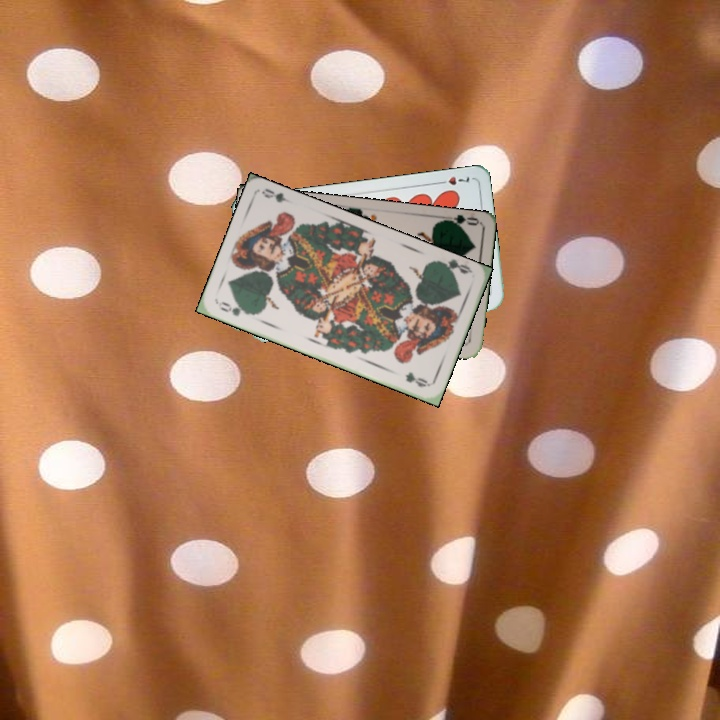GO: (434, 256, 474, 278), (214, 297, 254, 319), (439, 212, 480, 232)
H7: (433, 172, 472, 188)
